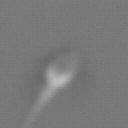normal: (14, 85, 54, 128)
